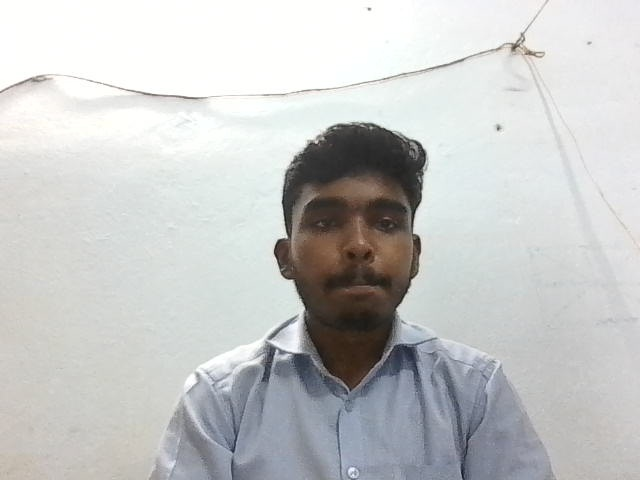real: (273, 113, 433, 340)
